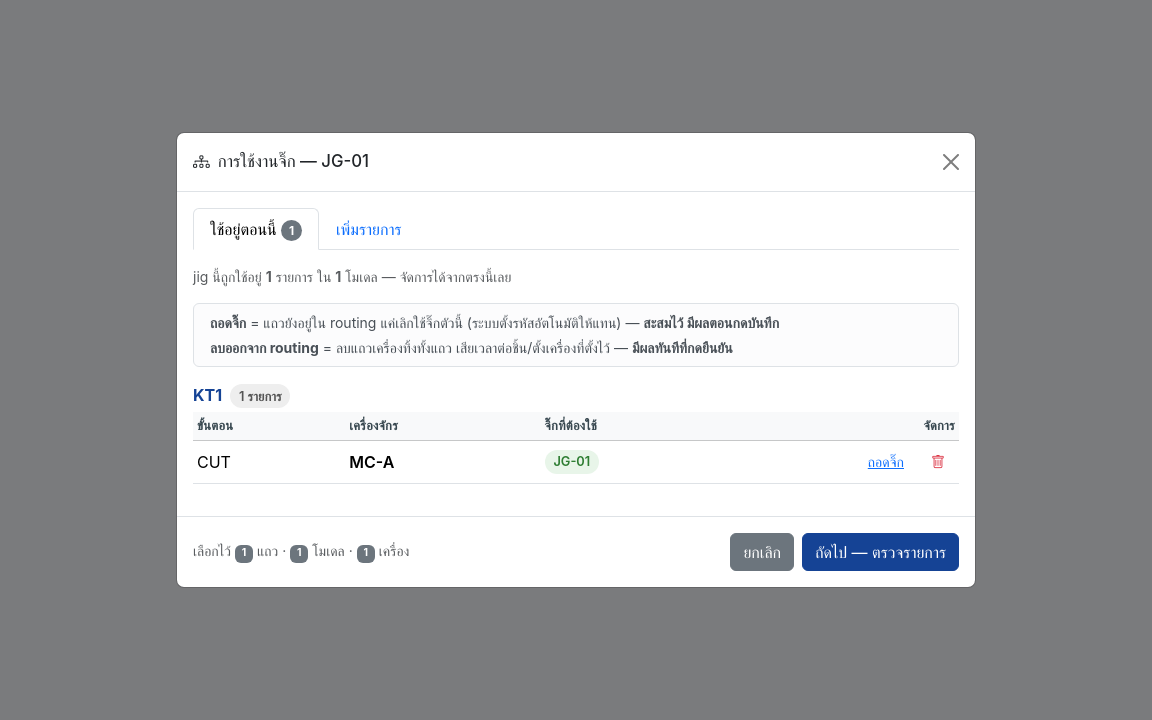
กดถอดจิ๊ก → ขึ้น "จะถอด" + เรียกคืนได้ และยังไม่ยิง API
This screenshot has width=1152, height=720.
Click the button with aria-label "ถอดจิ๊กออกจาก MC-A ของ KT1 CUT" at [886, 462], box x1=867 y1=450 x2=905 y2=473
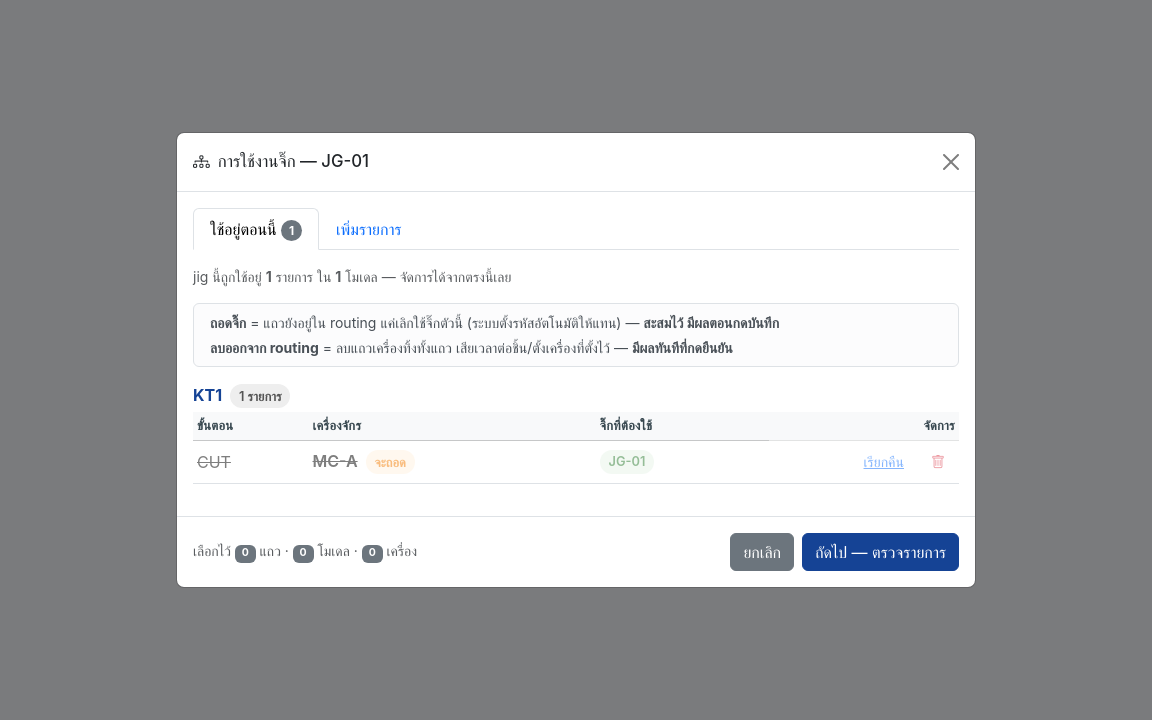
Expected: the text "จะถอด" is shown, x1=366 y1=450 x2=415 y2=474
Click the button "เรียกคืน" at [884, 462], box x1=862 y1=450 x2=905 y2=473
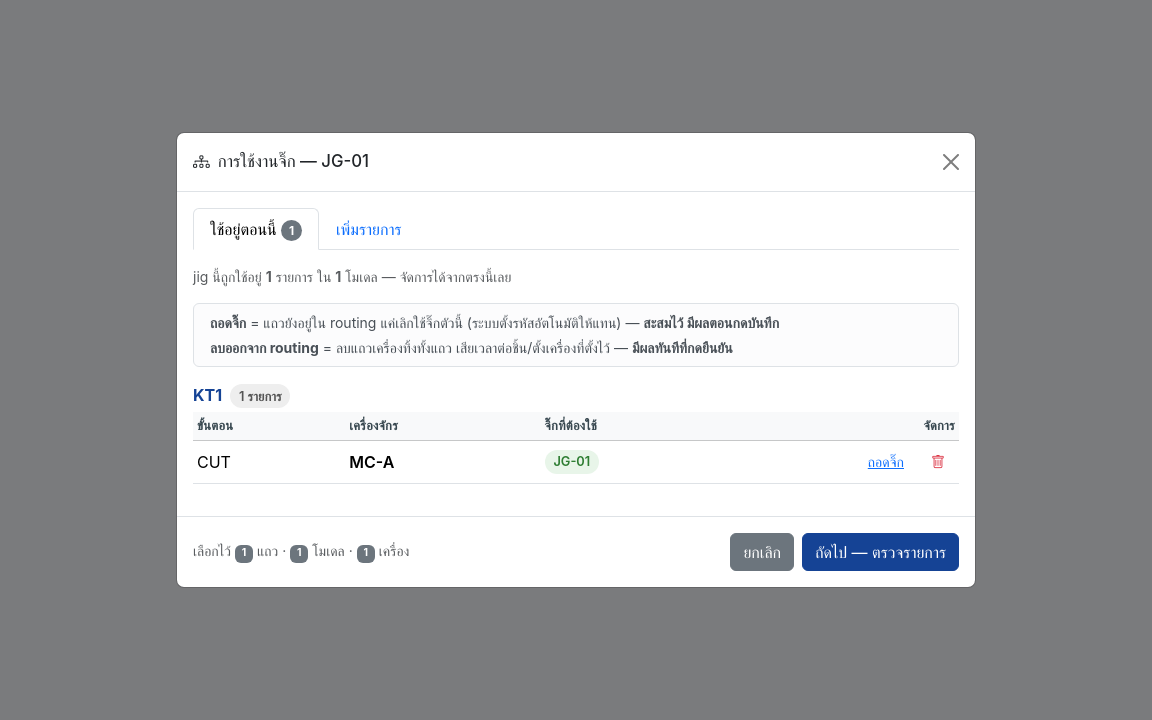
Expected: the text "จะถอด" is gone
